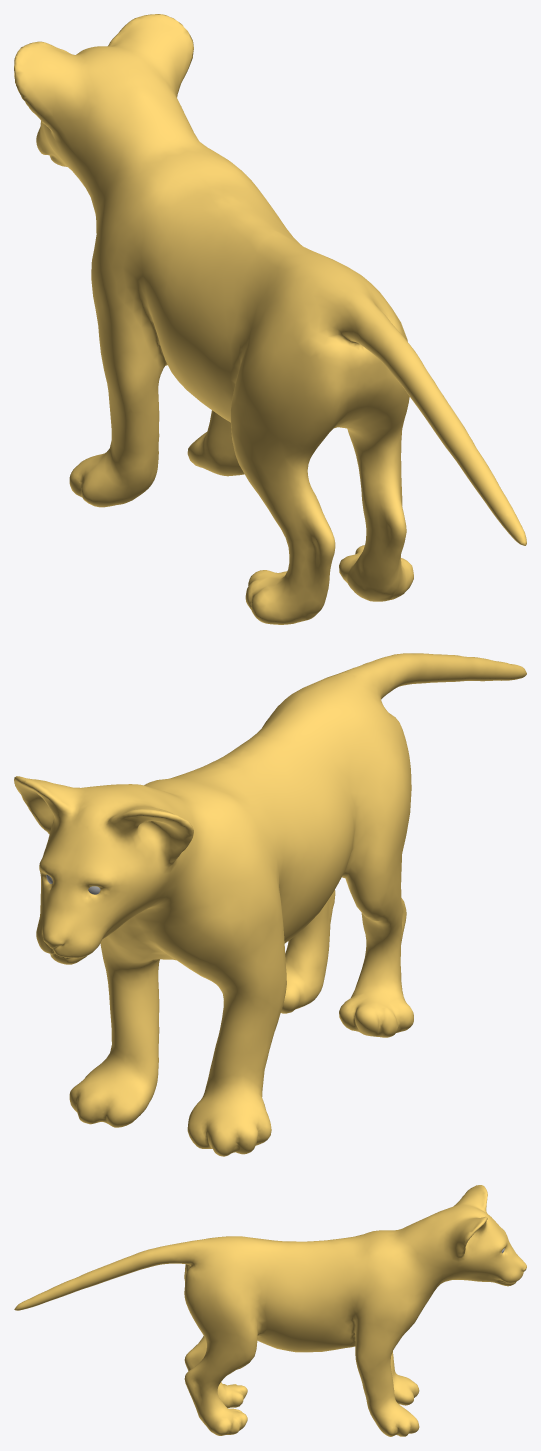
Rendered from lion-cub.obj.
The picture shows the model from 3 angles, top to bottom: view 1: azimuth 30°, elevation 25°; view 2: azimuth 150°, elevation 25°; view 3: azimuth 270°, elevation 25°; orthographic projection. The views are drawn at different scales.
Parts seen in each view (by area): view 1: Lion_Cub; view 2: Lion_Cub; view 3: Lion_Cub.
Part boxes in pixels (bbox=[...]): Lion_Cub: bbox=[14, 14, 526, 624]; Lion_Cub: bbox=[14, 653, 526, 1156]; Lion_Cub: bbox=[14, 1185, 526, 1436].
Size of the model in its own units: 3.65 by 7.4 by 16.02.
